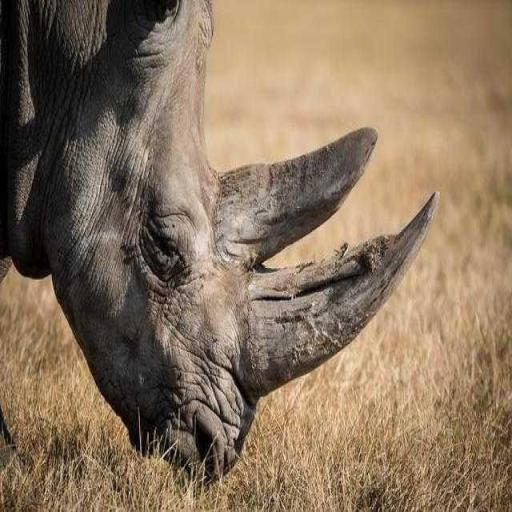Rhino: (0, 0, 439, 491)
